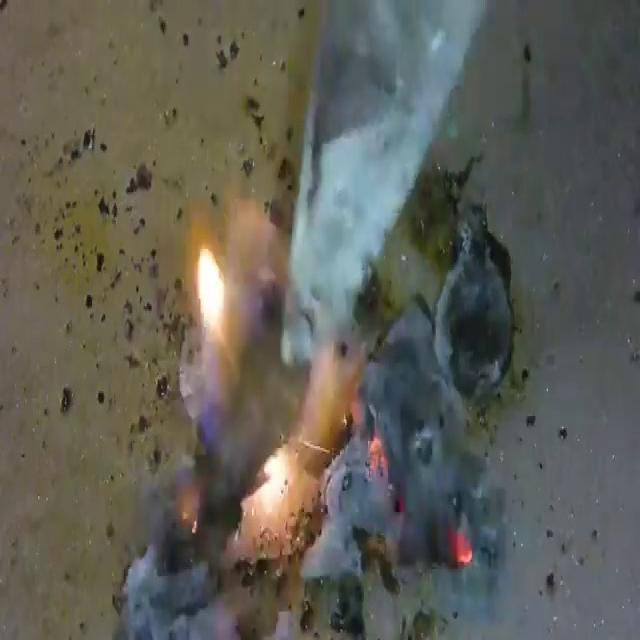Fire: (171, 197, 516, 595), (227, 334, 370, 572)
